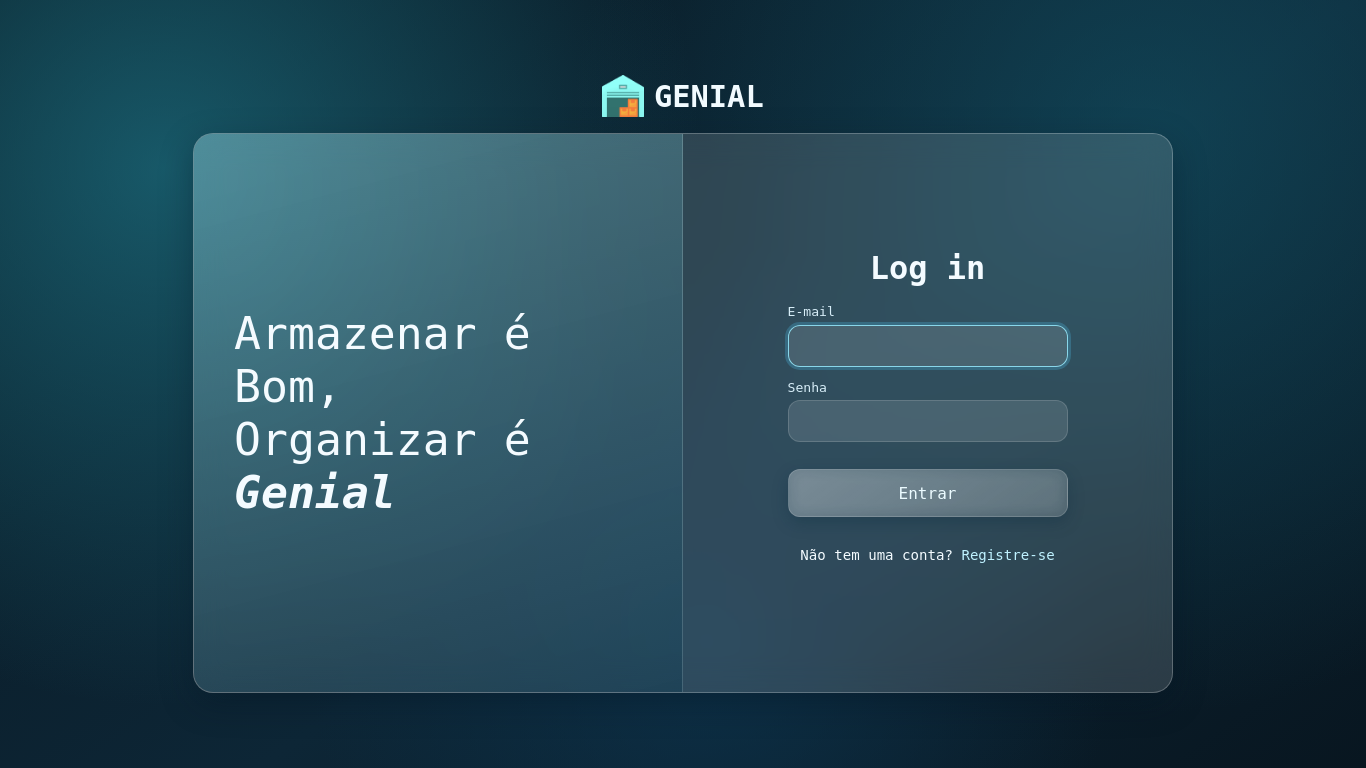
Test: Login page › deve exibir erro amigável quando login falhar
The image size is (1366, 768).
In the field labelled "E-mail": (928, 346) x1=788 y1=325 x2=1068 y2=367, type "user@genial.com"
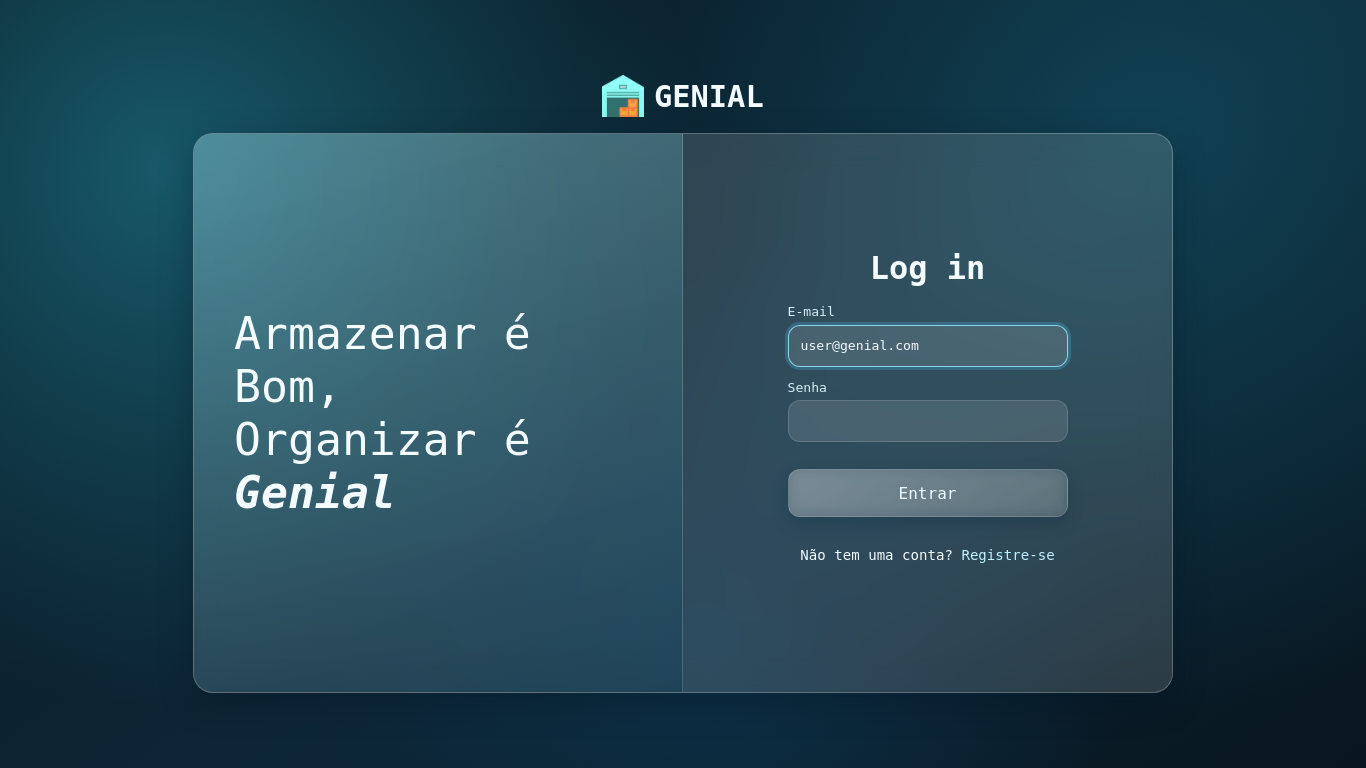
In the password field labelled "Senha": (928, 421) x1=788 y1=400 x2=1068 y2=442, type "123456"
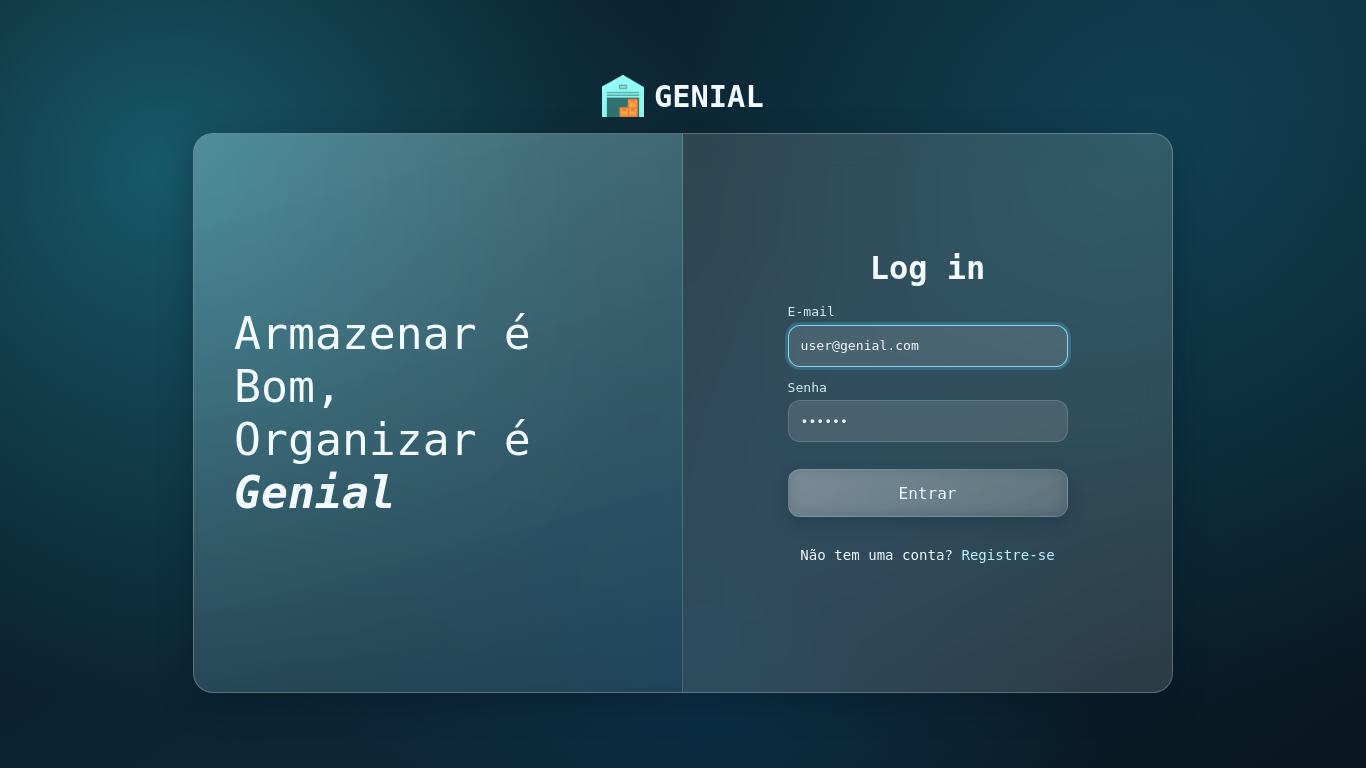
Click the button "Entrar": (928, 493) x1=788 y1=469 x2=1068 y2=517
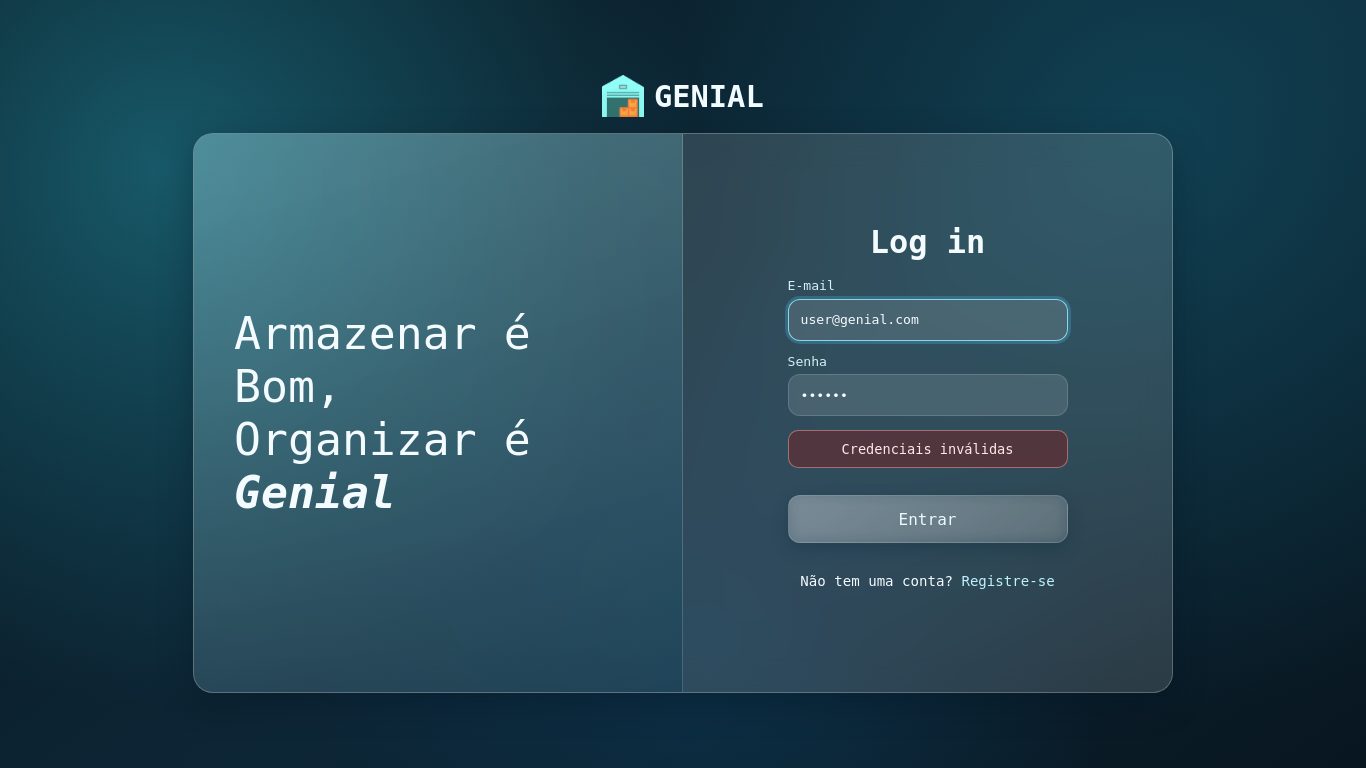
Expected: the text "Credenciais inválidas" is shown, x1=788 y1=430 x2=1068 y2=468
